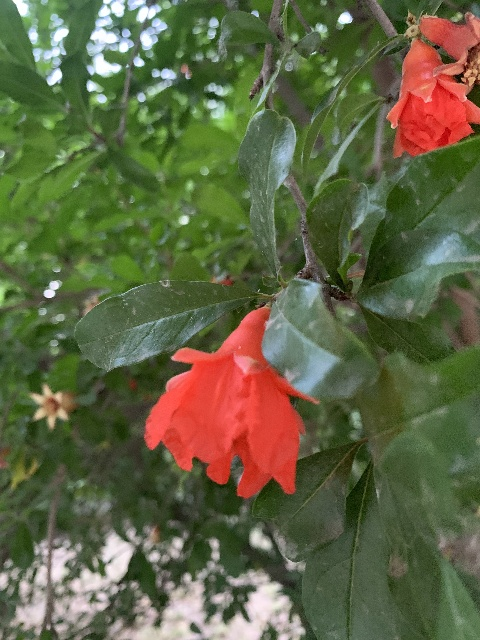early-fruit: (28, 383, 79, 430)
flower: (144, 306, 317, 496), (386, 38, 480, 157)
